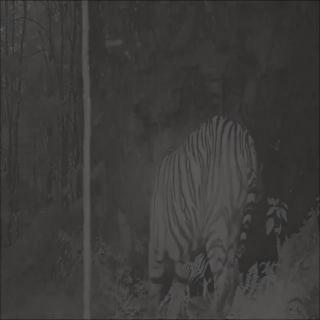Tiger: (142, 111, 259, 320)
